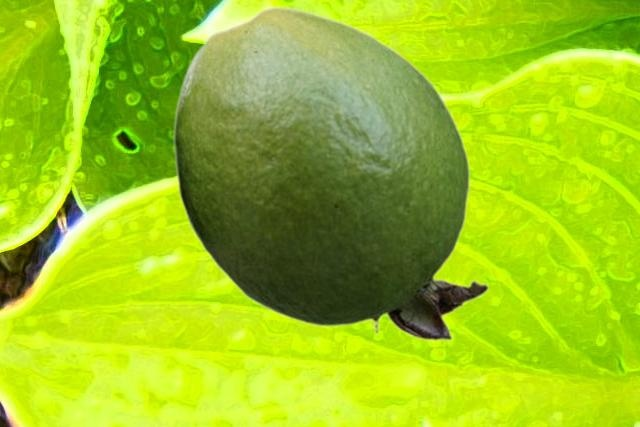guava: (172, 5, 489, 340)
